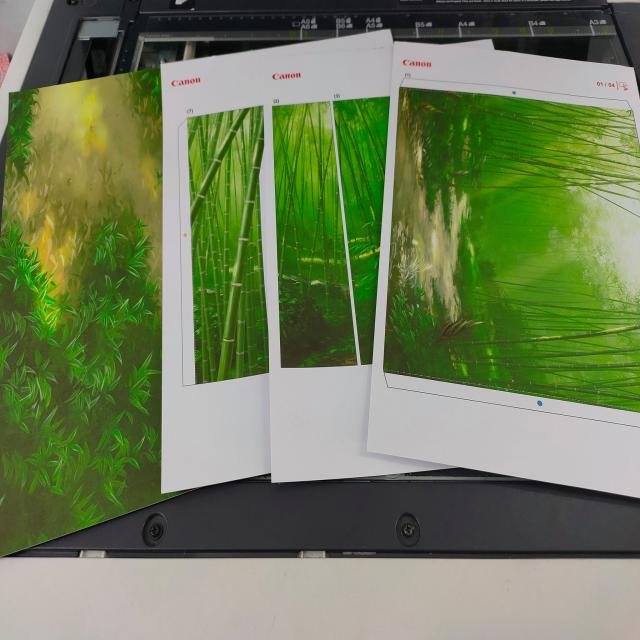paper: (163, 39, 451, 491), (2, 69, 175, 555)
